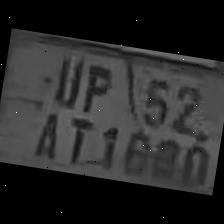0: (175, 135, 212, 188)
1: (88, 117, 124, 170)
2: (164, 76, 204, 136)
5: (136, 70, 174, 128)
8: (115, 124, 152, 176)
A: (28, 105, 66, 161)
P: (76, 57, 116, 115)
T: (57, 113, 96, 166)
U: (48, 50, 86, 110)
